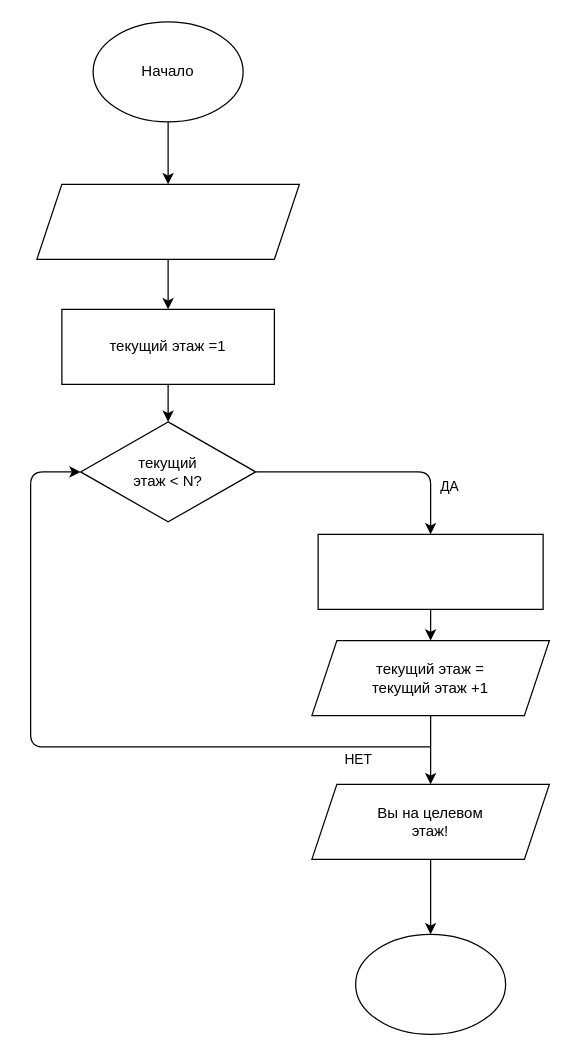
The diagram is 571 pixels wide and 1056 high, and some of its shapes have lost their labels. Here are the shapes that lost their labels. From the top down, the centre of each, then its label:
At point 167,221: "Ввод: целевой этаж(N)".
At point 430,571: "Поднять на этаж выше".
At point 430,983: "Конец".
